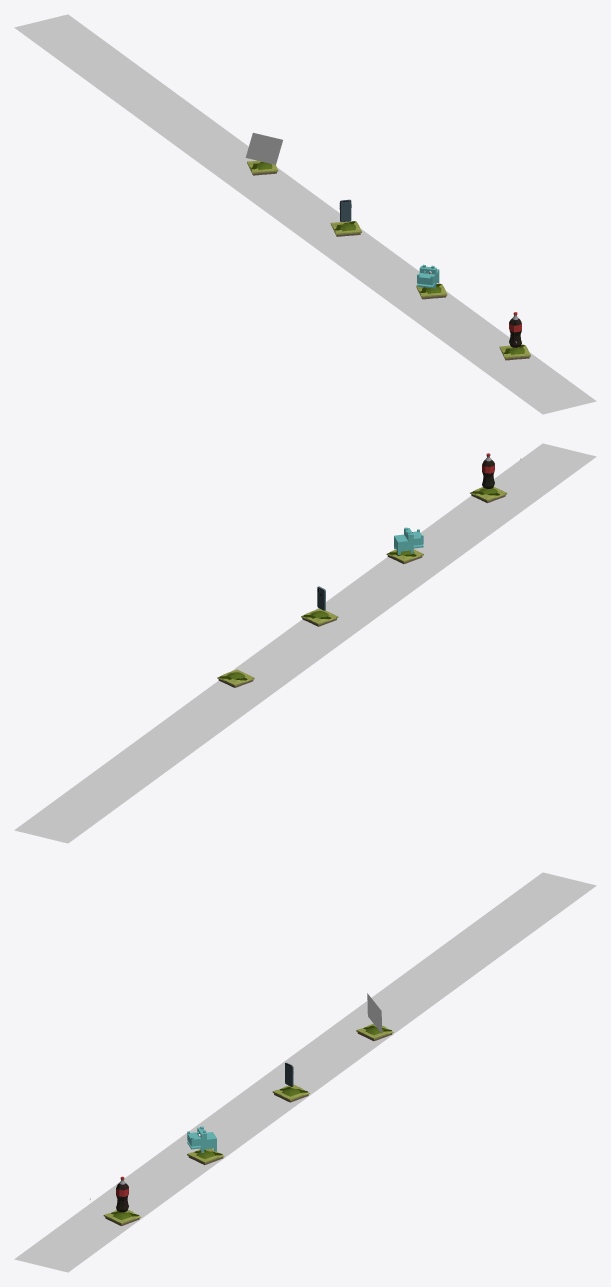
The model's file is goodrobot.glb.
3 renders of one model, top to bottom at view 1: azimuth 30°, elevation 25°; view 2: azimuth 150°, elevation 25°; view 3: azimuth 330°, elevation 25°, orthographic.
Parts seen in each view (by area): view 1: Plane, Plane.001; view 2: Plane, Cube; view 3: Plane, Cube.
Boxes of the visible parts, x1,y1,x2,y2 form: Plane: (14, 14, 596, 414); Plane.001: (245, 132, 282, 164); Plane: (14, 443, 596, 843); Cube: (394, 527, 423, 554); Plane: (14, 872, 596, 1272); Cube: (187, 1126, 216, 1152).
Size of the model in its own units: 4.06 by 2.97 by 67.59.
9 materials, 1 textured.
